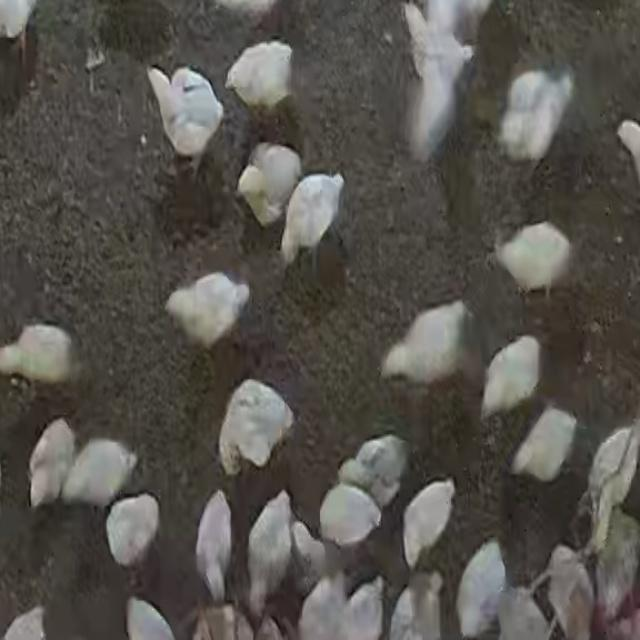chicken: (146, 64, 223, 165), (497, 67, 575, 163), (218, 378, 292, 476), (382, 300, 469, 382), (165, 270, 248, 350), (280, 172, 345, 269), (493, 220, 572, 296), (247, 490, 297, 606), (236, 140, 302, 227), (509, 402, 578, 480), (64, 438, 138, 508), (225, 39, 295, 113), (0, 322, 78, 388), (401, 480, 457, 570), (454, 539, 505, 637), (342, 435, 410, 506), (482, 331, 540, 414), (104, 492, 160, 572), (29, 417, 78, 507), (317, 483, 383, 549), (199, 488, 236, 602)
